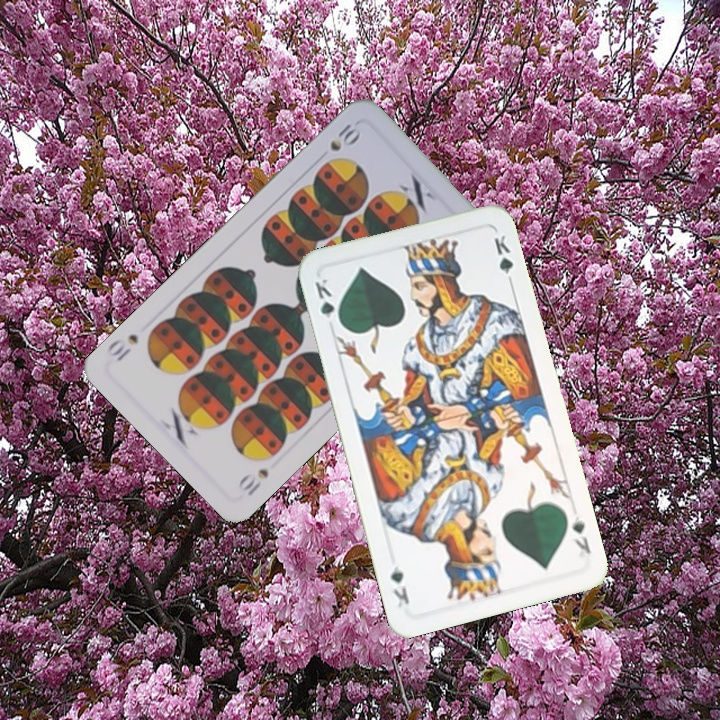GK: (310, 274, 344, 329), (568, 512, 594, 557)
S10: (325, 117, 364, 154), (233, 464, 271, 499)
